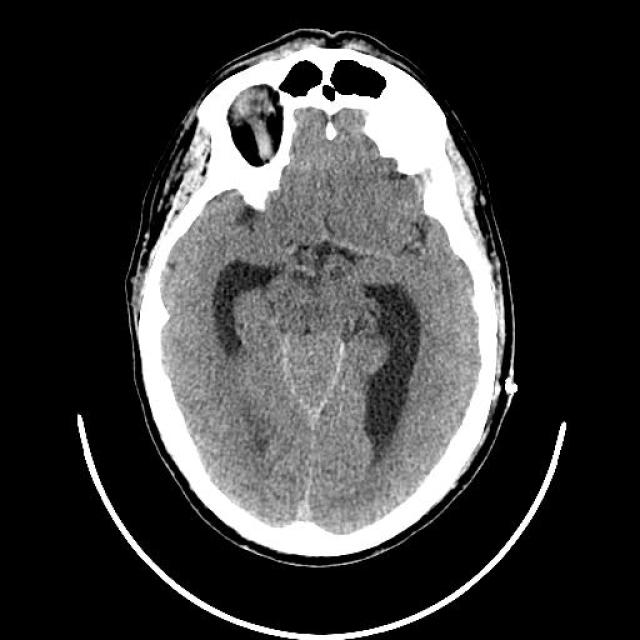Subdural: (265, 342, 350, 552)
